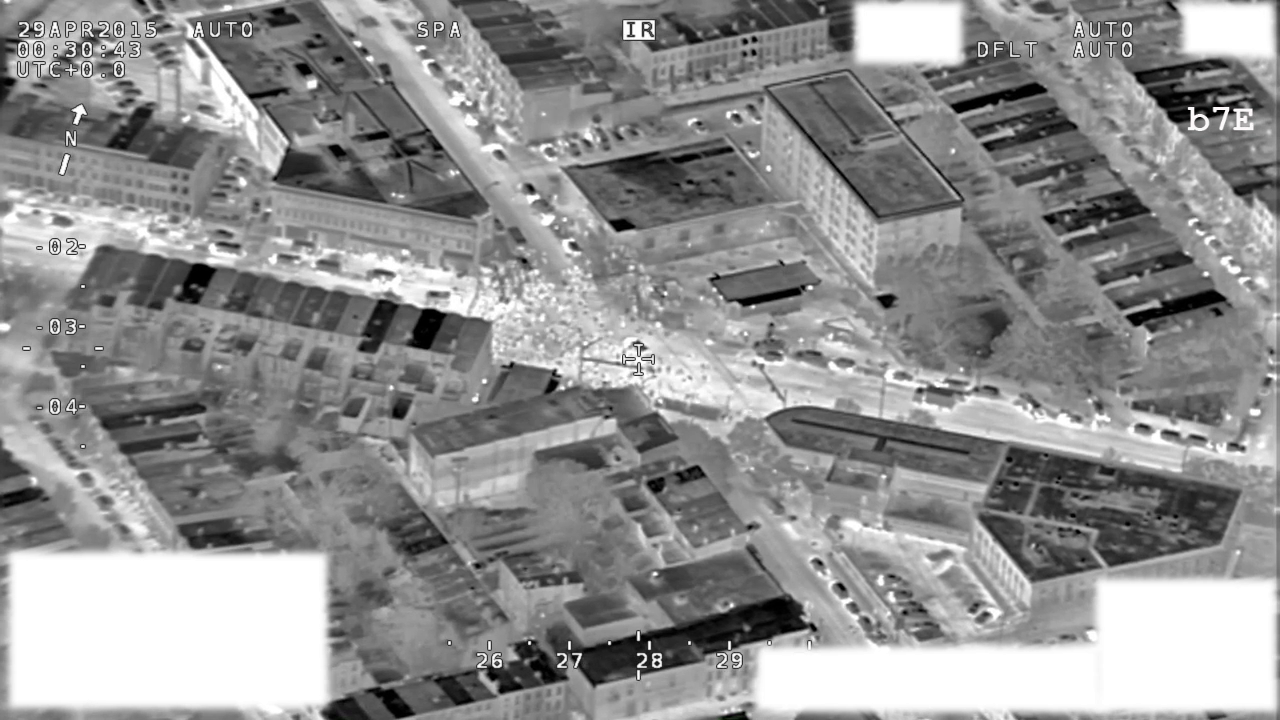vehicle: (911, 384, 959, 412), (759, 495, 792, 523), (805, 552, 835, 580), (530, 198, 559, 224), (753, 334, 787, 356), (1017, 390, 1048, 414), (136, 221, 174, 240), (854, 610, 879, 638), (904, 622, 945, 639), (160, 213, 194, 233), (561, 234, 586, 260), (206, 240, 242, 258), (537, 139, 561, 165), (421, 58, 447, 81), (110, 522, 138, 543), (556, 135, 584, 156), (684, 116, 712, 137), (47, 212, 80, 229), (828, 579, 851, 603), (268, 253, 302, 269), (313, 259, 343, 277), (368, 268, 398, 286), (1058, 406, 1085, 426), (589, 128, 611, 152), (422, 289, 451, 307), (892, 603, 929, 617), (92, 494, 119, 513), (48, 191, 78, 208), (573, 130, 595, 153), (794, 348, 825, 364), (1158, 426, 1184, 445), (288, 237, 317, 254), (27, 188, 55, 205), (32, 419, 57, 438), (878, 571, 909, 586), (519, 180, 540, 202), (620, 123, 642, 144), (722, 107, 744, 128), (741, 139, 763, 160), (607, 125, 627, 148), (738, 102, 762, 121), (206, 227, 236, 242), (121, 203, 146, 221), (95, 197, 121, 214), (1129, 421, 1158, 436), (1186, 433, 1215, 448), (974, 383, 1002, 398), (48, 436, 71, 454), (882, 588, 916, 600), (890, 369, 914, 386), (762, 351, 789, 366), (222, 172, 247, 188), (1225, 440, 1250, 456), (411, 44, 433, 62), (229, 156, 256, 170), (966, 600, 985, 619), (976, 610, 996, 628), (76, 473, 98, 489), (832, 357, 859, 370), (227, 166, 252, 180), (73, 194, 98, 208), (207, 192, 233, 205), (844, 598, 860, 618), (487, 147, 507, 162), (61, 456, 84, 469), (5, 185, 29, 197), (214, 183, 240, 194)
